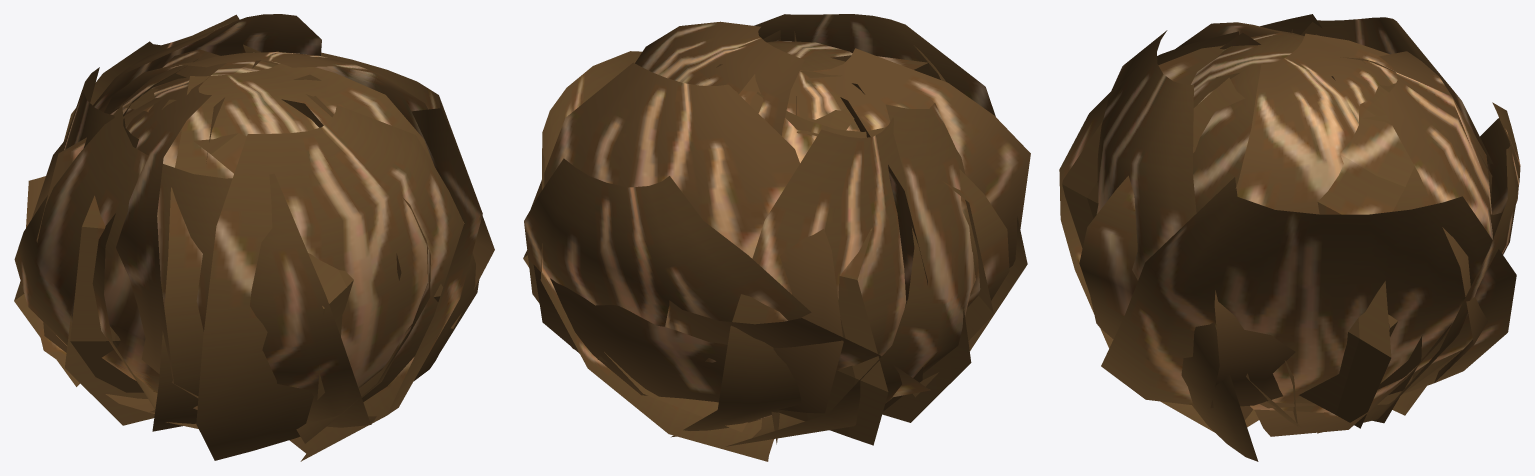
The model's file is pref_sm_sce_080705_haystack01_lv3.fbx.
3 renders of one model, left to right at view 1: azimuth 30°, elevation 25°; view 2: azimuth 150°, elevation 25°; view 3: azimuth 270°, elevation 25°, orthographic. The views are drawn at different scales.
Visible parts, largest first — view 1: sm_sce_080705_haystack01_lv3; view 2: sm_sce_080705_haystack01_lv3; view 3: sm_sce_080705_haystack01_lv3.
Boxes of the visible parts, x1,y1,x2,y2 form: sm_sce_080705_haystack01_lv3: (14,14,494,461); sm_sce_080705_haystack01_lv3: (523,14,1030,461); sm_sce_080705_haystack01_lv3: (1059,14,1520,461).
Bounding box in the file's own units: 1.13 × 0.9383 × 1.12.
